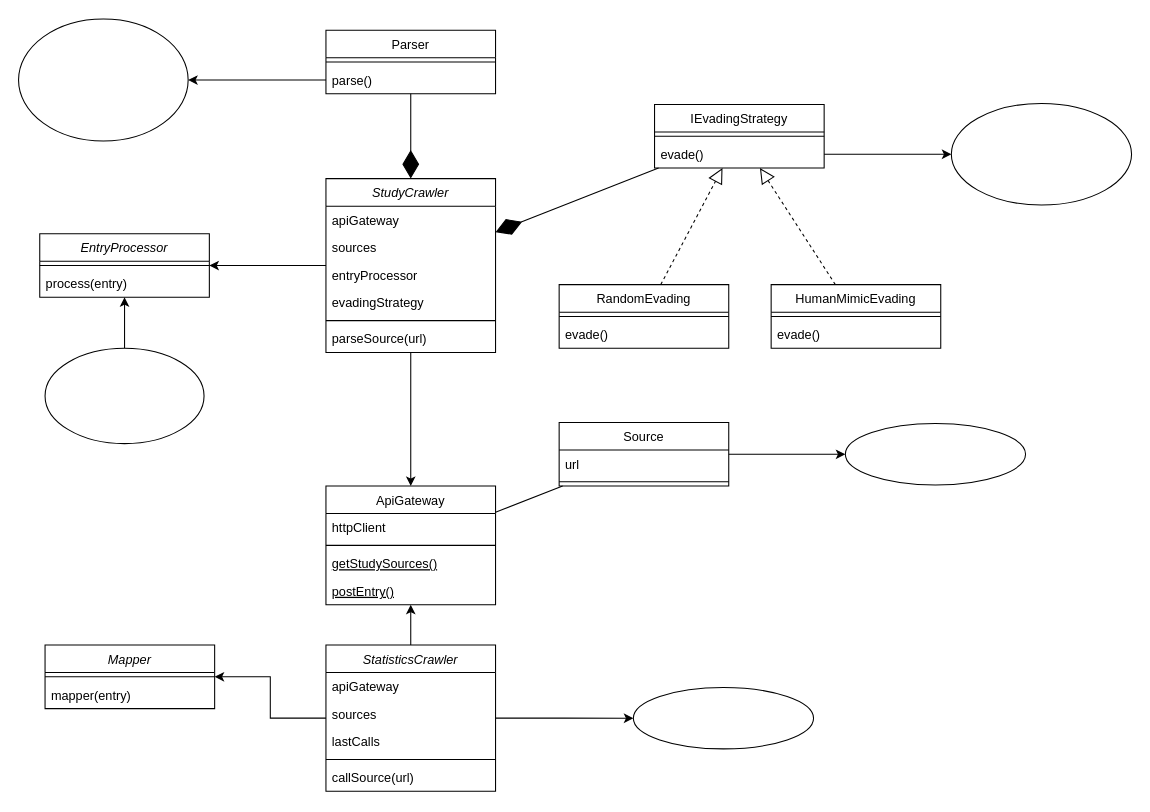
The diagram is 1150 pixels wide and 812 high, and some of its shapes have lost their labels. The centre of each missing label's shape, as x and y in pixels:
Gathers statistics of covid cases from known sources: [723,717]
Gets a blob of texts, returns pieces of text that can be interpreted as an entry: [102,79]
Gets a text entry and extracts keywords and other useful data: [124,395]
Represents the behaviour of the crawler between accessing links: [1041,153]
Url of a website that contains covid related data: [935,454]
